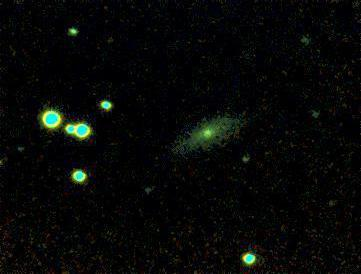star: (314, 188, 344, 218)
